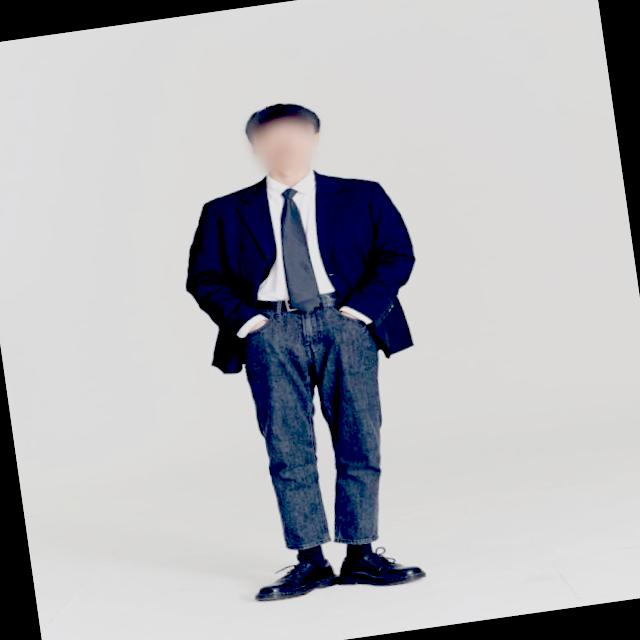blazer: (166, 158, 429, 384)
denimpants: (228, 288, 407, 556)
